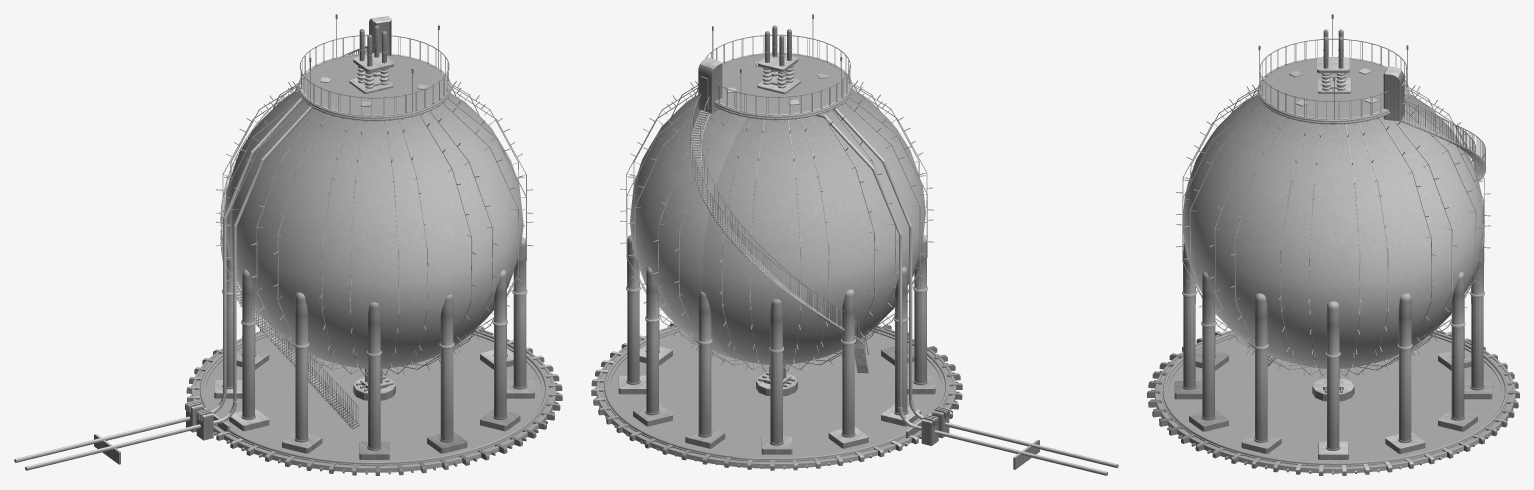
Rendered from guanziqiuxing.glb.
3 views of the same model, side by side, from view 1: azimuth 30°, elevation 25°; view 2: azimuth 150°, elevation 25°; view 3: azimuth 270°, elevation 25° (orthographic).
Visible parts, largest first — view 1: Sphere001, 对象001, 对象002, 对象003; view 2: Sphere001, 对象001, 对象002, 对象003; view 3: Sphere001, 对象001, 对象002, 对象003.
Part boxes in pixels (<box>): Sphere001: <box>224,91,523,368</box>; 对象001: <box>14,14,562,475</box>; 对象002: <box>191,328,555,472</box>; 对象003: <box>297,53,451,121</box>; Sphere001: <box>630,90,925,364</box>; 对象001: <box>591,14,1118,475</box>; 对象002: <box>596,325,955,468</box>; 对象003: <box>714,53,852,120</box>; Sphere001: <box>1182,94,1484,368</box>; 对象001: <box>1147,14,1519,475</box>; 对象002: <box>1155,329,1515,473</box>; 对象003: <box>1257,58,1409,124</box>.
Bounding box in the file's own units: 0.8699 × 0.5992 × 0.5563.
2 materials, 1 textured.
